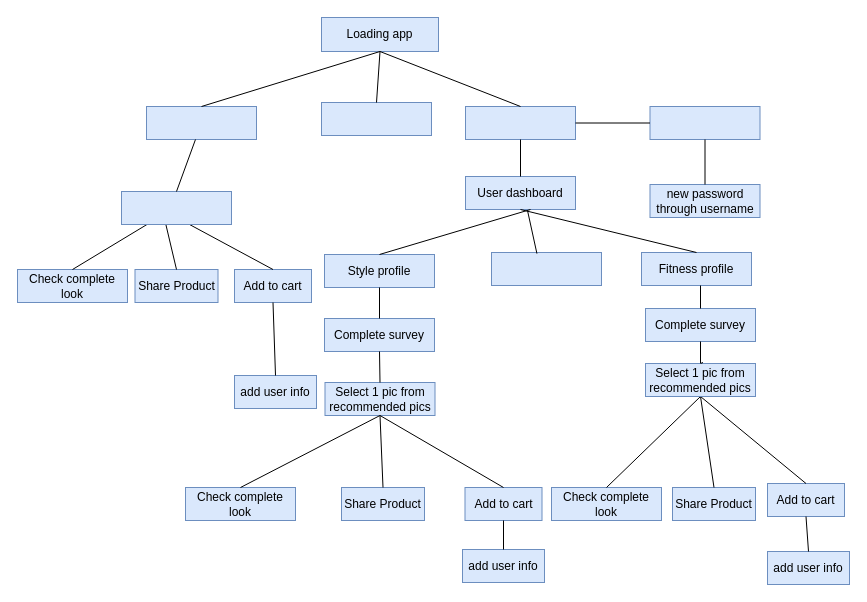
Some shapes in this 867 by 602 pixel diagram are drawn without their labels. The shapes that lost their labels are listed below. From the top down, each one's centre as x and y in pixels, then its label:
the point at 201,123: Search
the point at 376,119: Home
the point at 520,123: Login
the point at 704,123: forgot password
the point at 176,207: Select 1 pic from result
the point at 546,269: Display username
